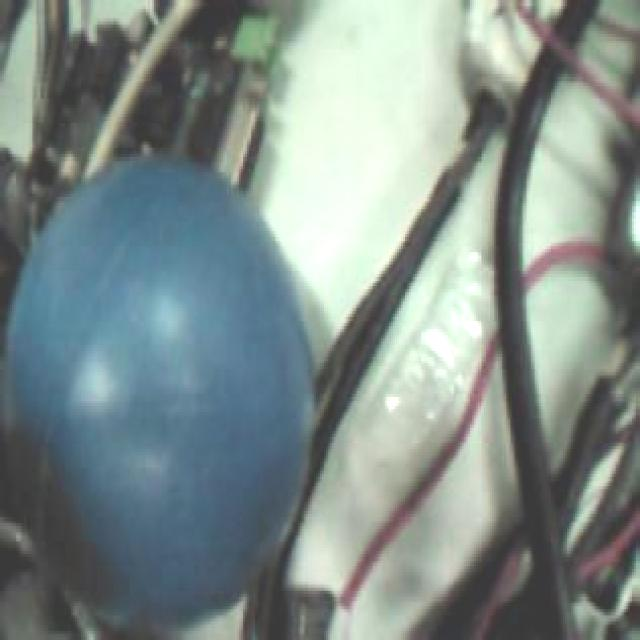BallPurple: (2, 154, 316, 624)
